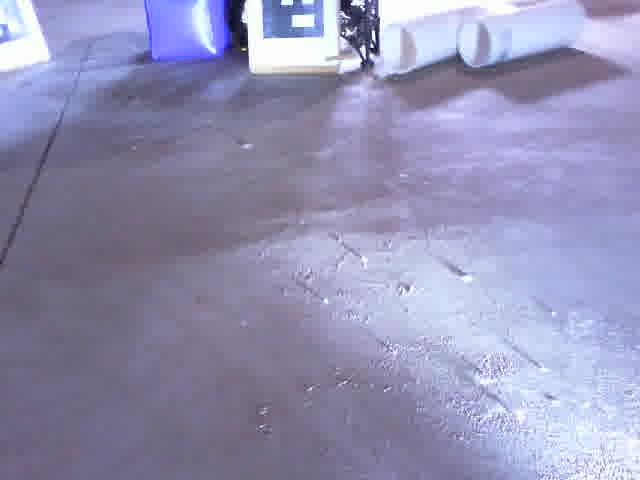coral: (458, 3, 586, 69), (381, 6, 488, 73)
